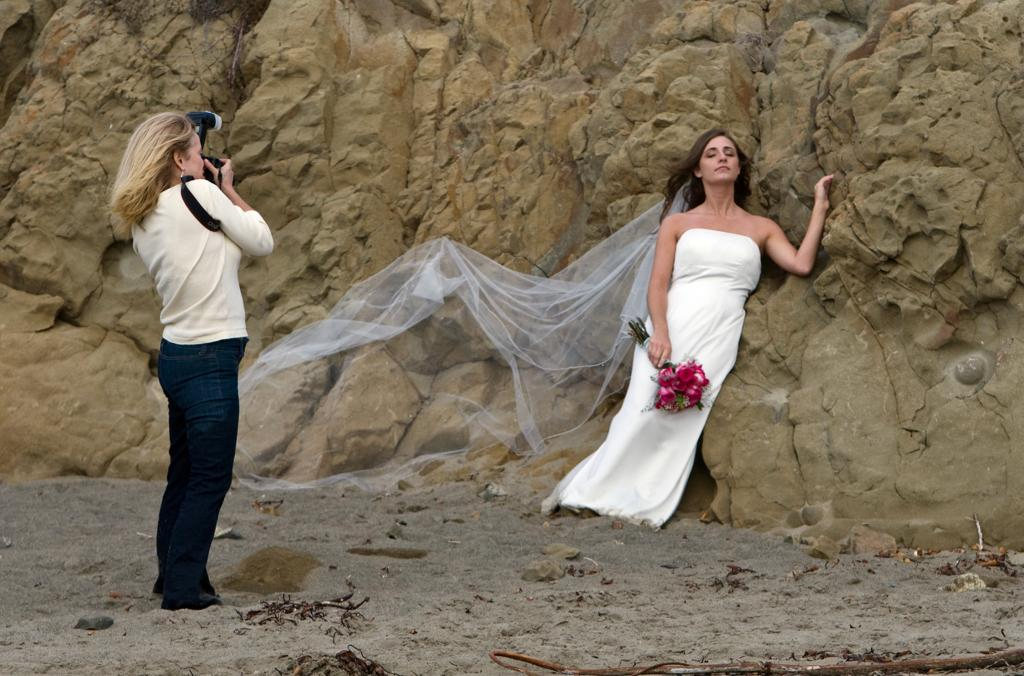face: (703, 135, 739, 182), (185, 132, 203, 177)
